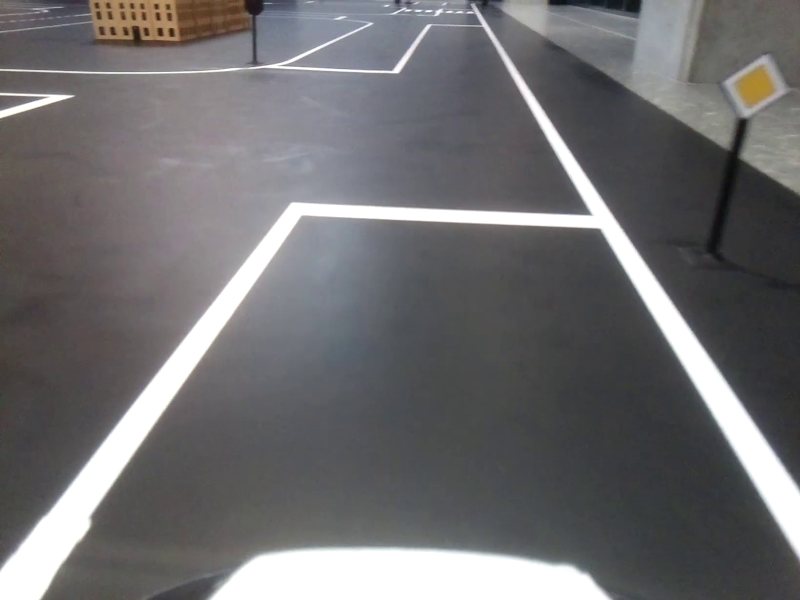priority: (725, 60, 789, 117)
